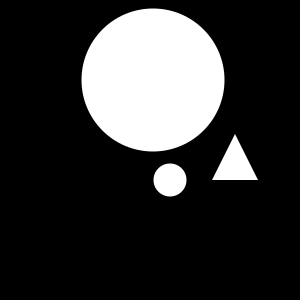rectangle: (82, 8, 224, 152), (153, 163, 186, 196)
triangle: (212, 134, 258, 180)
